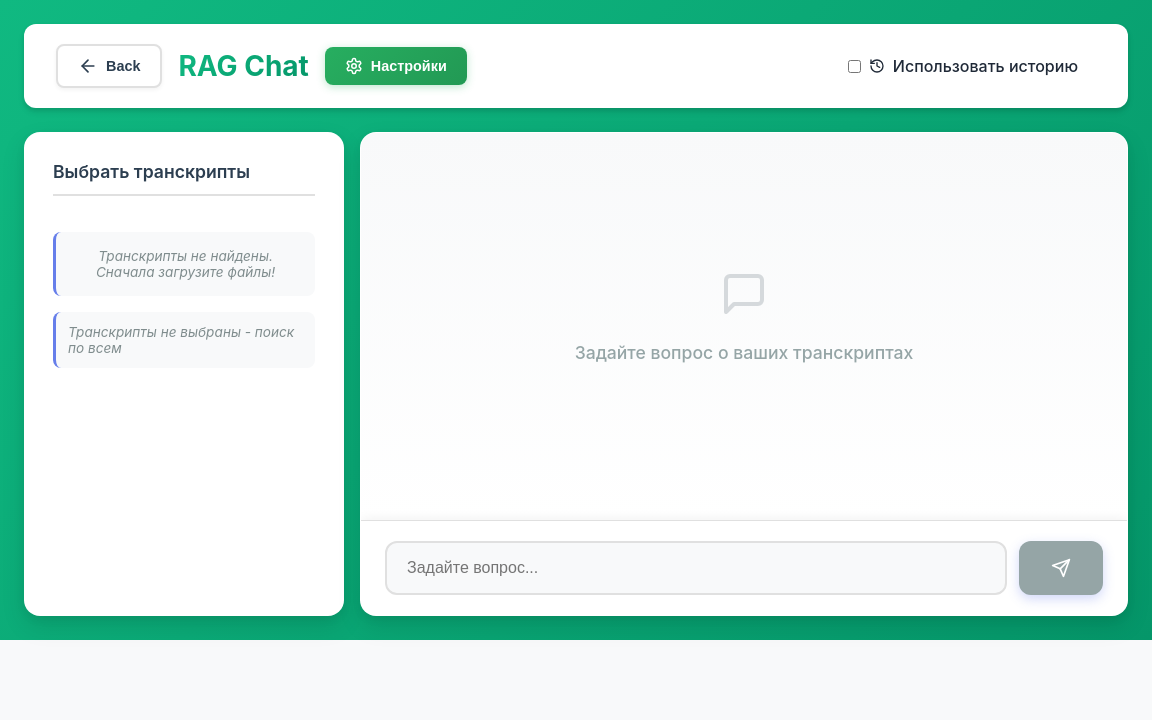
RAGChatPage › Settings › should open settings modal
Click the button "Настройки" at (396, 66), box [325, 47, 467, 85]
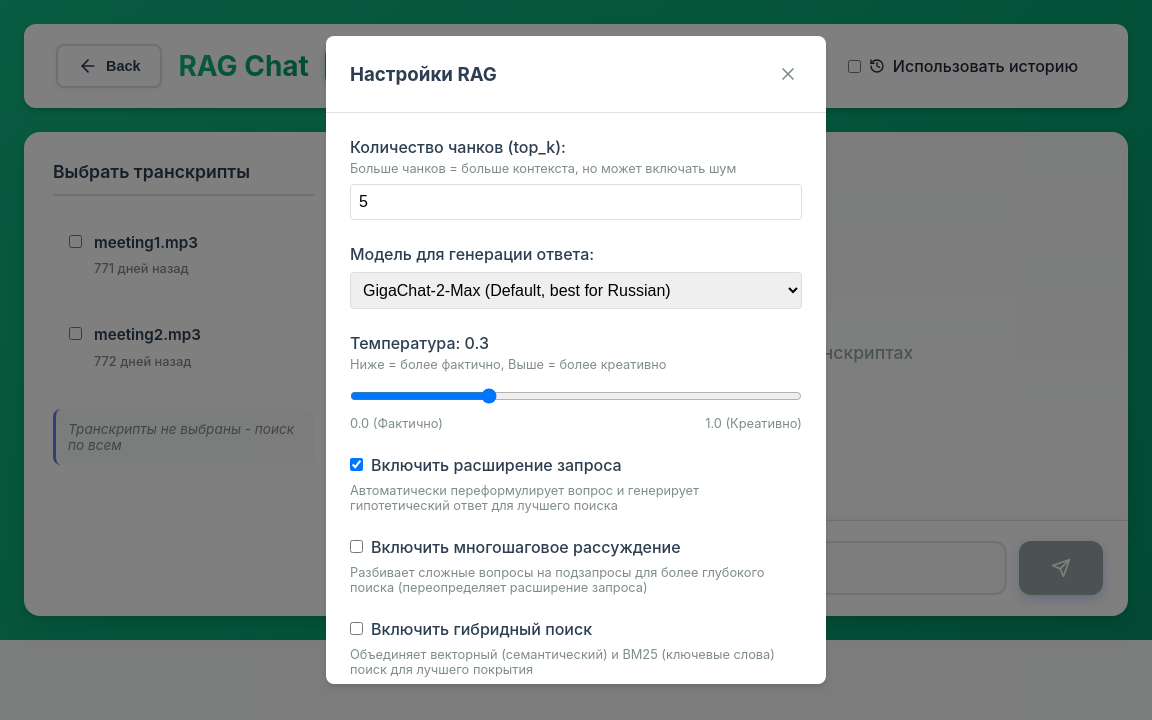
Now the heading "Настройки RAG" is shown, box [350, 62, 497, 86]
